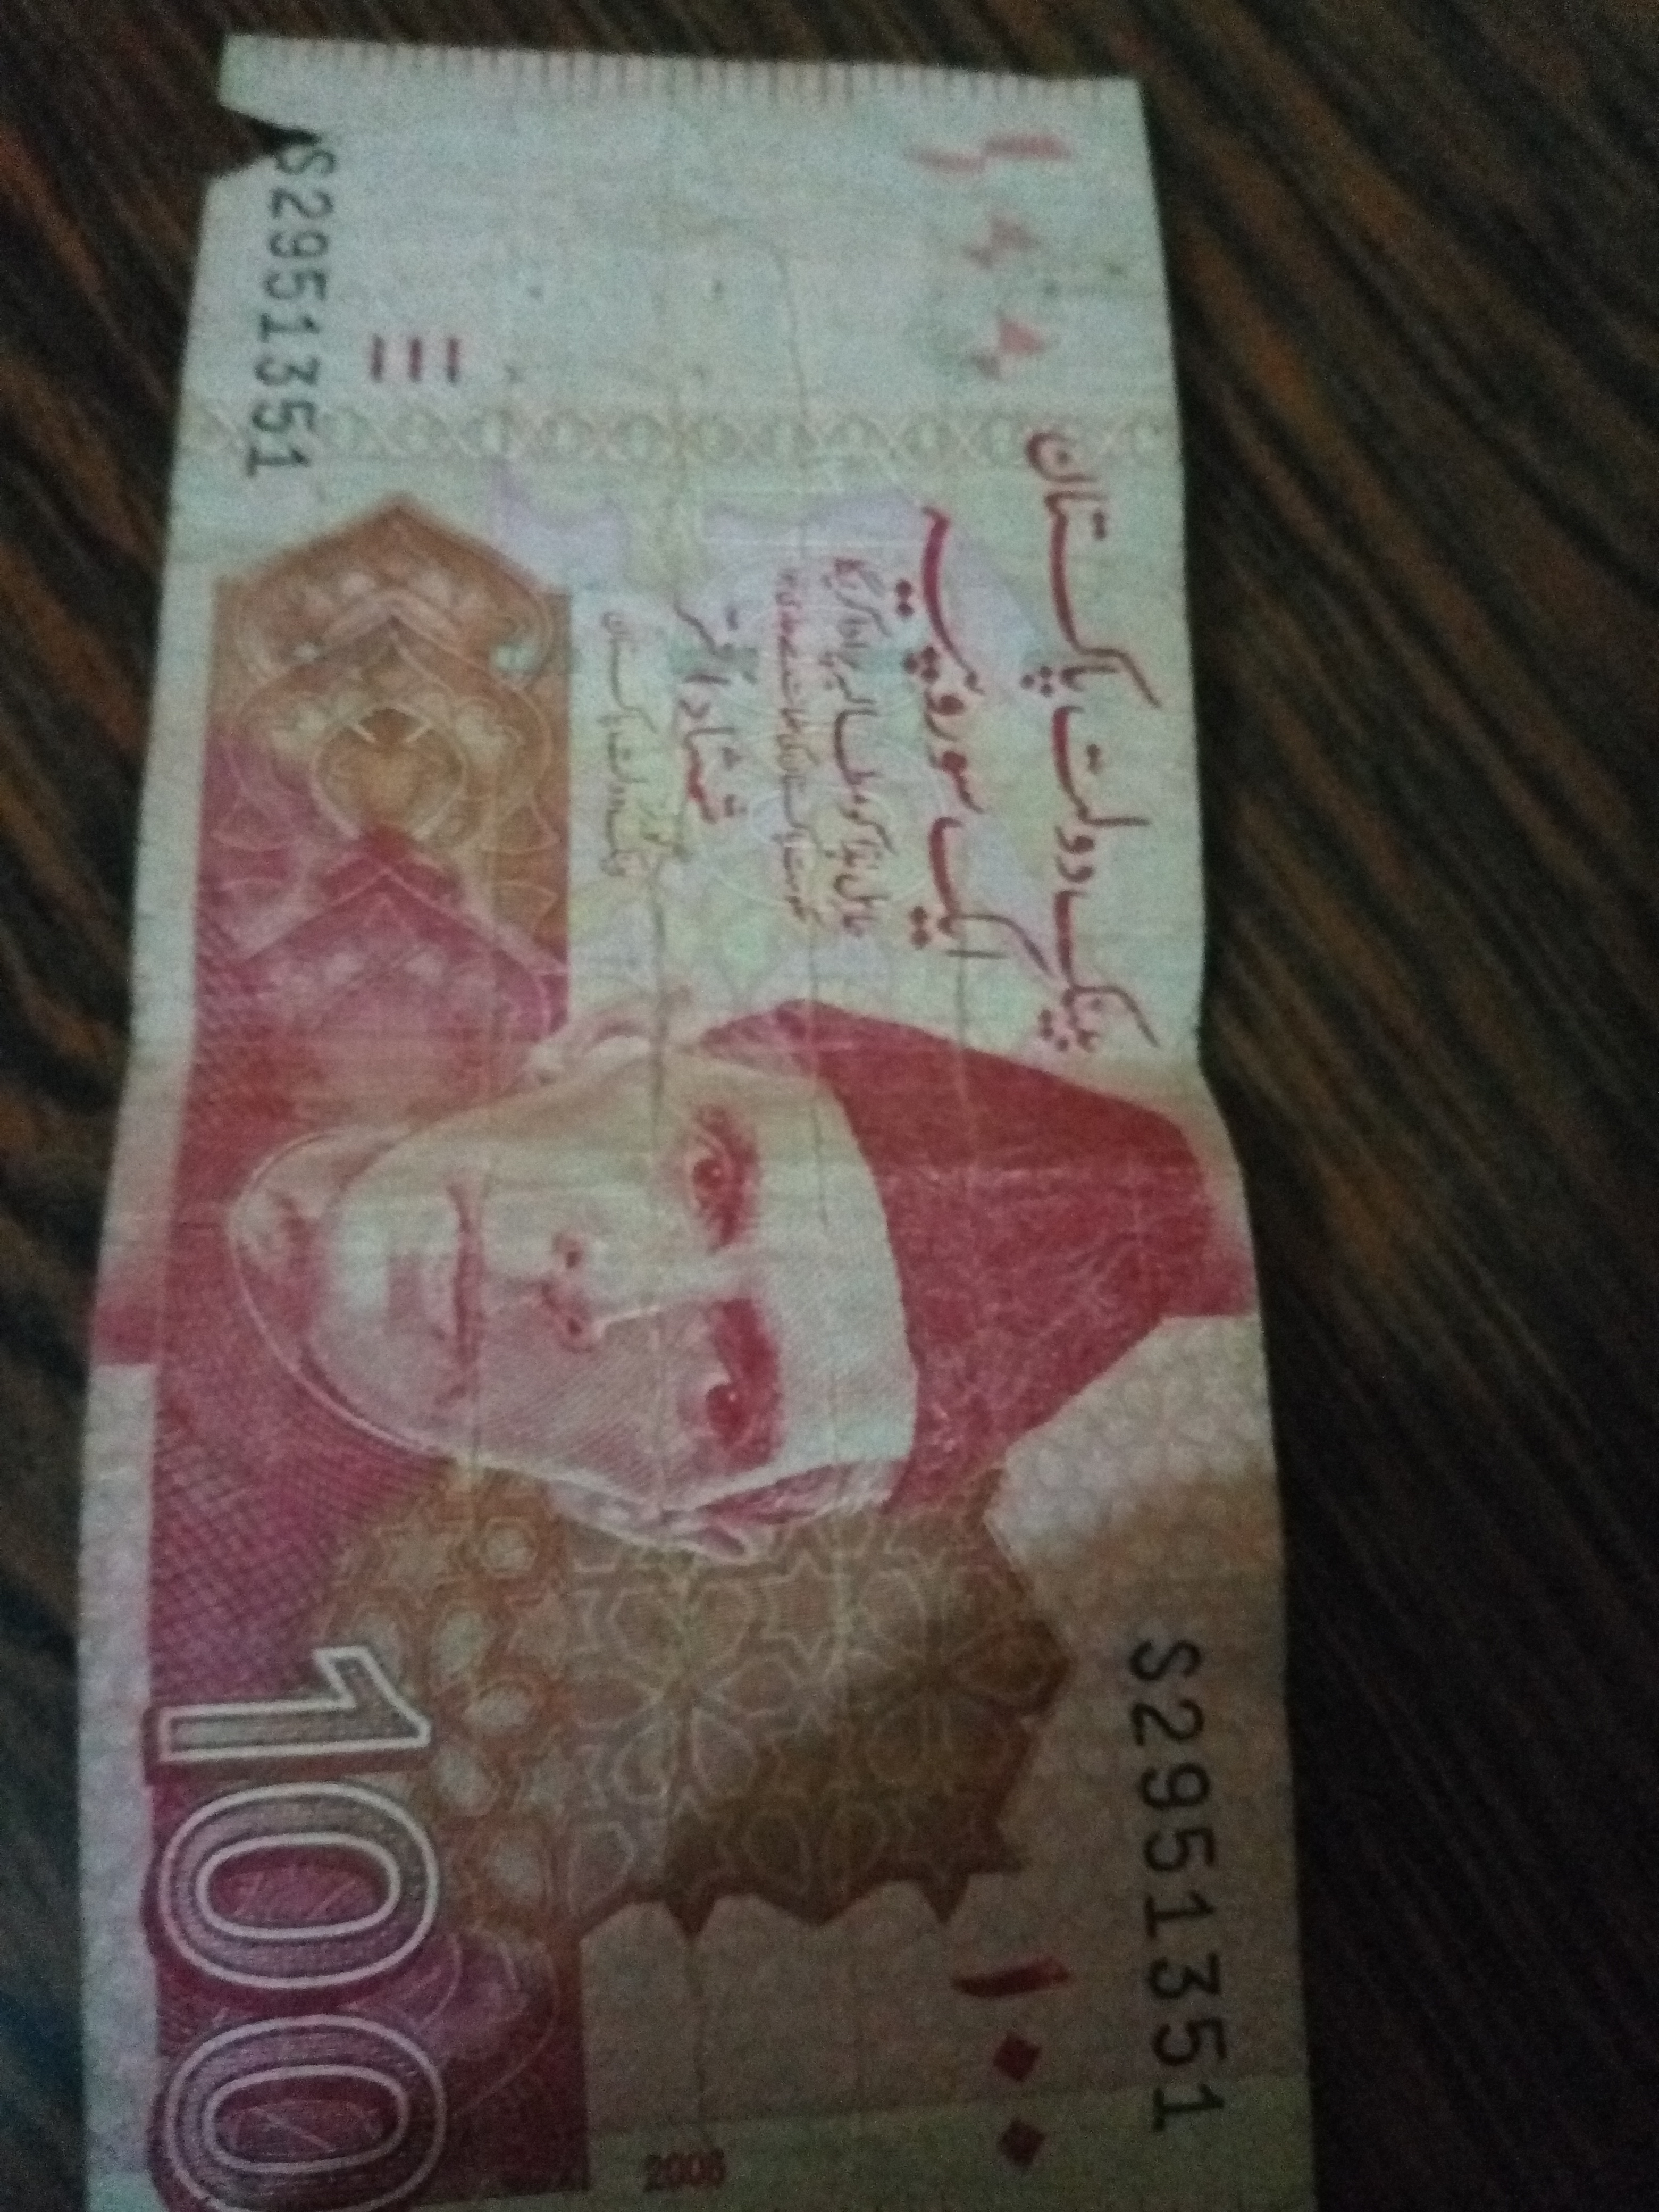100 rupee: (91, 56, 1281, 2179)
